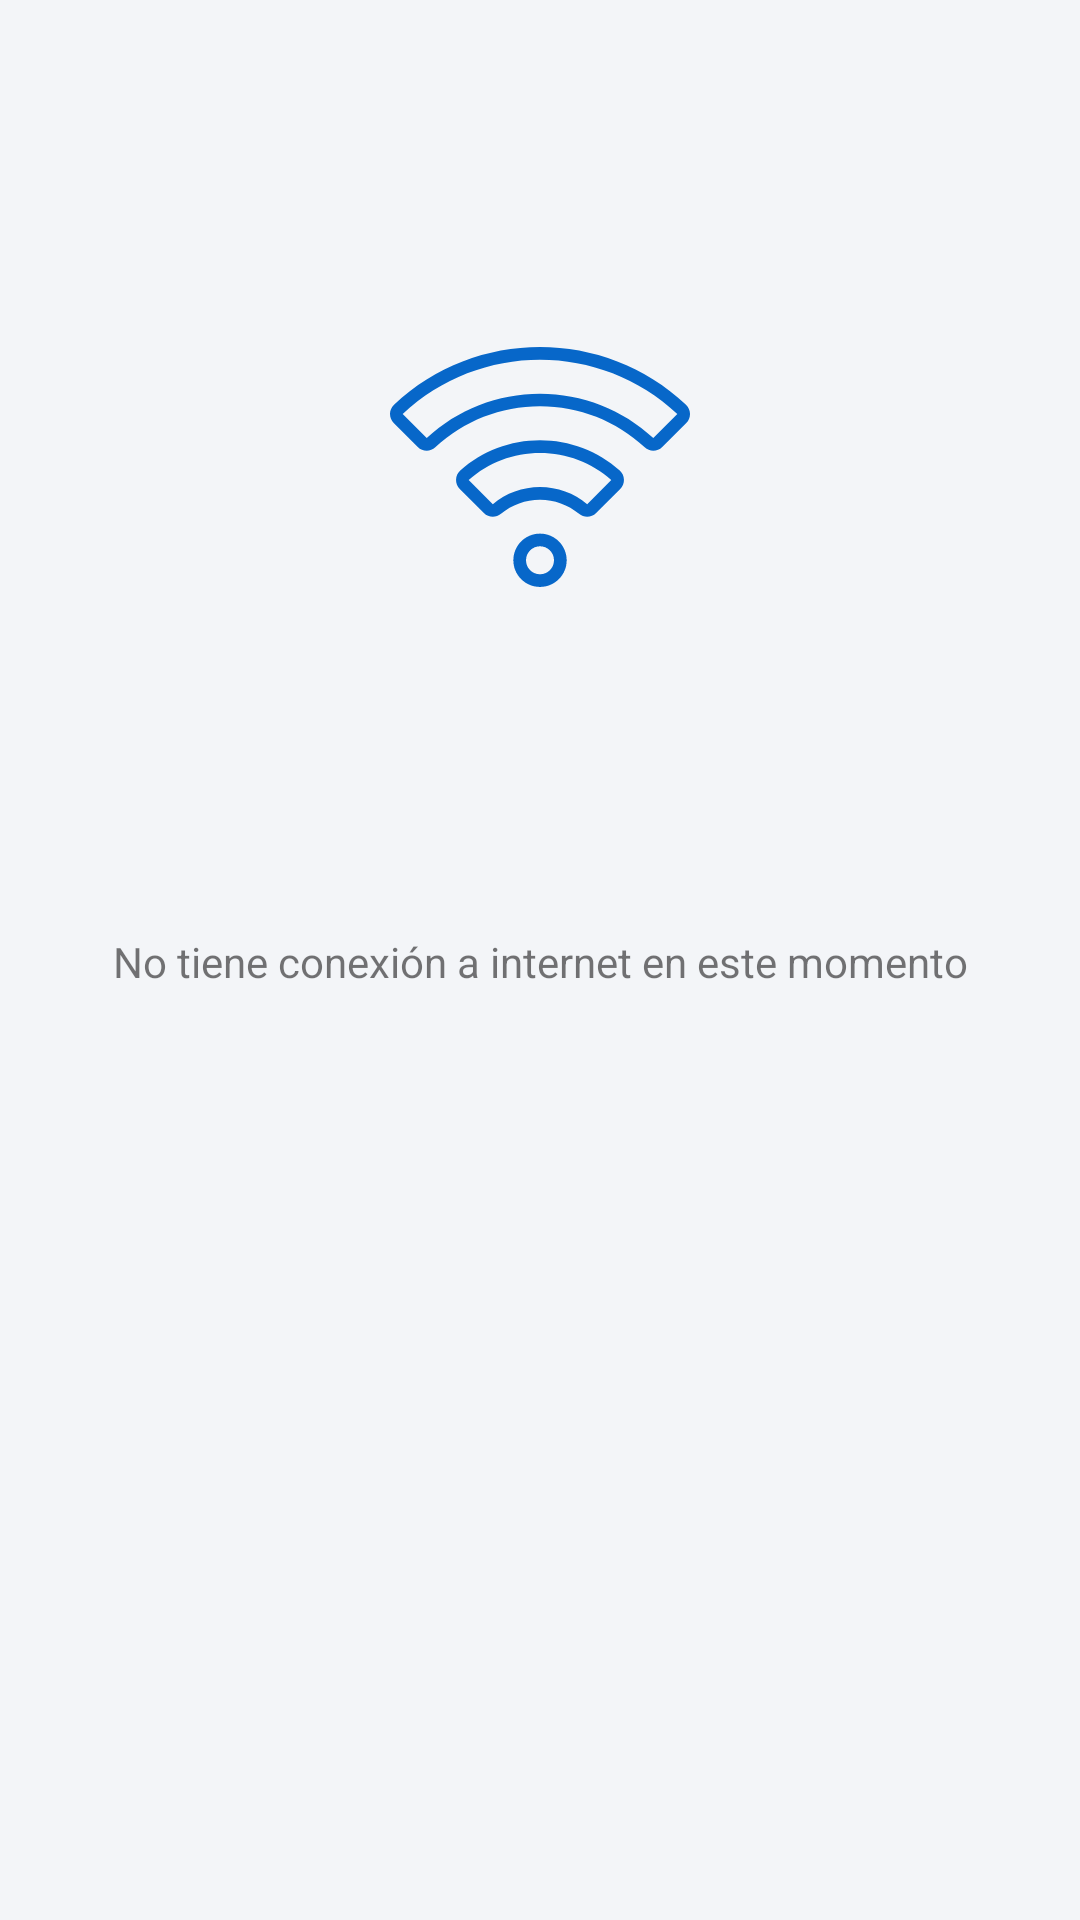

Named icons in this screenshot (1080 x 1920) and their centers, point (x, y):
wifi: point (540, 467)
